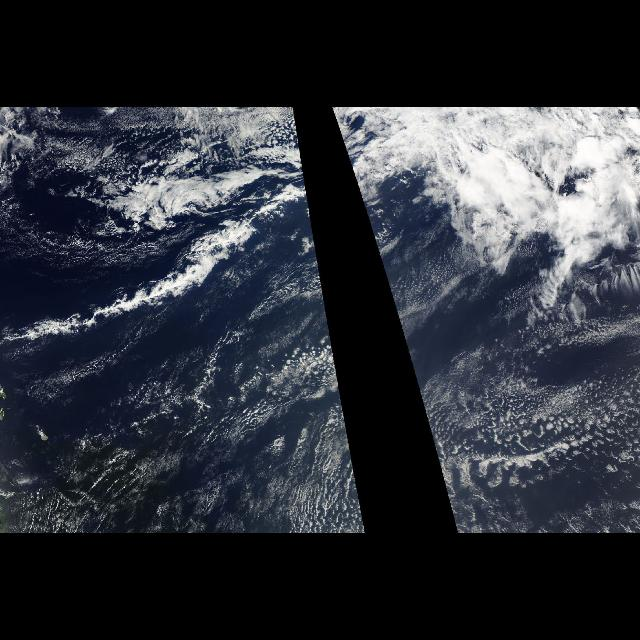Fish: (2, 259, 225, 365), (499, 234, 639, 338), (170, 224, 290, 253)
Gravel: (429, 358, 639, 508)
Sugar: (8, 347, 368, 533), (405, 347, 615, 533), (378, 246, 496, 344)
